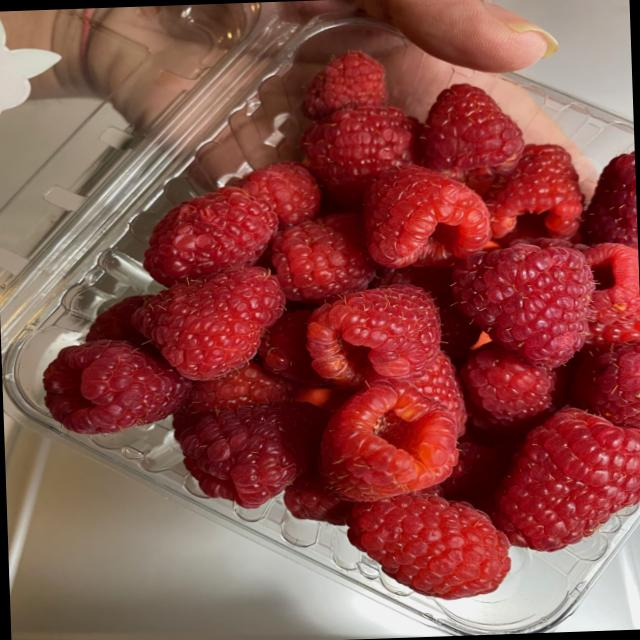raspberries: (98, 69, 616, 585)
